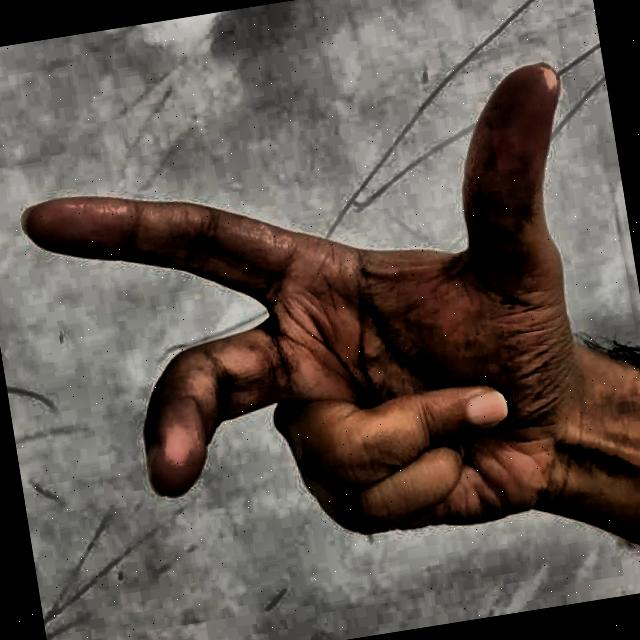Da: (0, 14, 640, 640)
